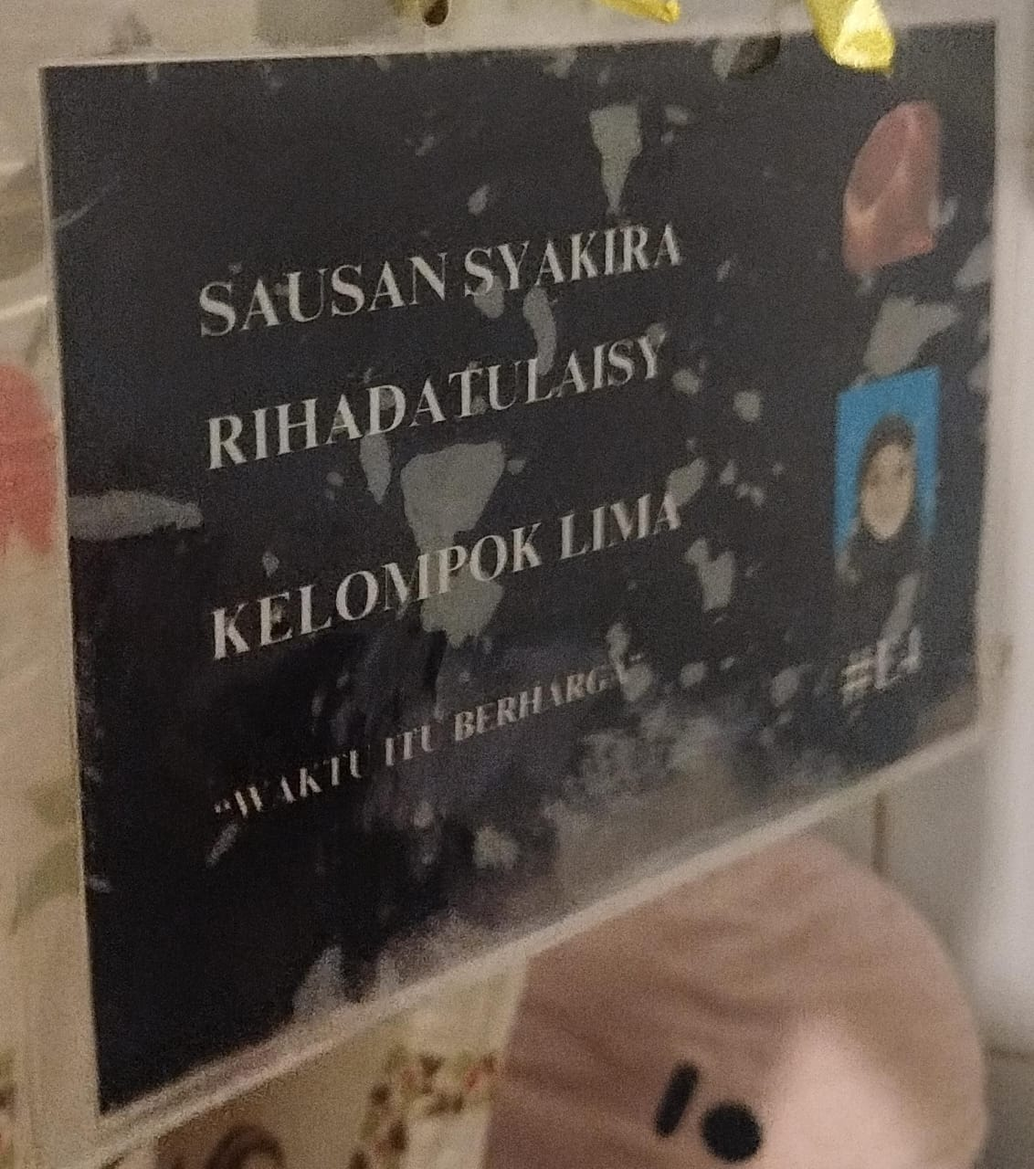nametag_ada: (36, 60, 973, 759)
